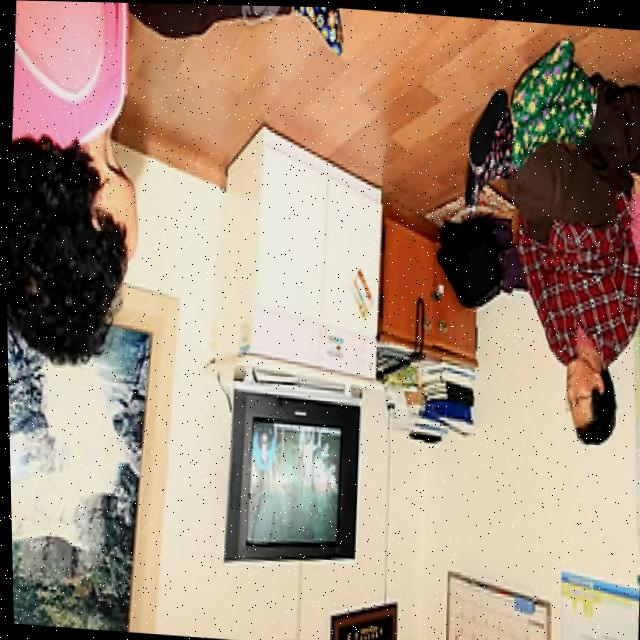tv-person: (196, 105, 640, 611)
